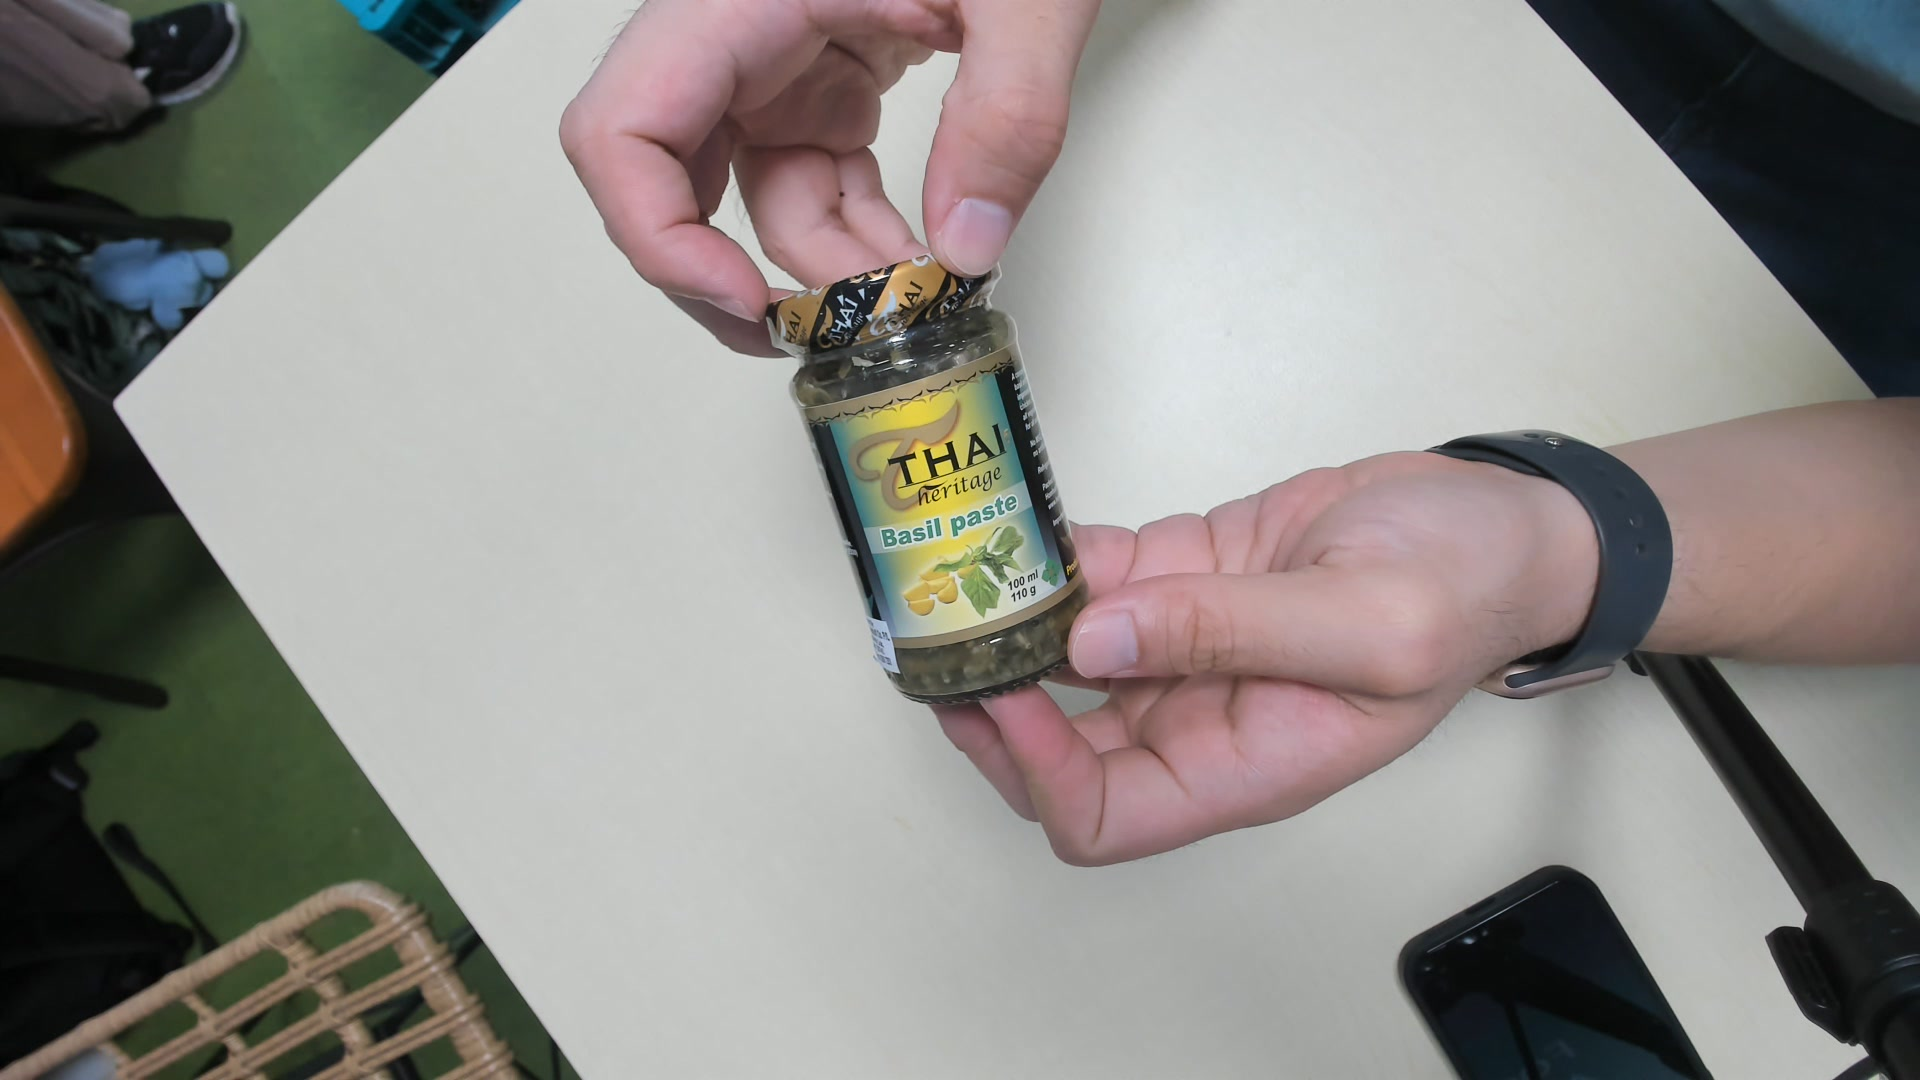OtherSauceDressing_0-99g_Halal_NonHealthy: (765, 251, 1087, 709)
